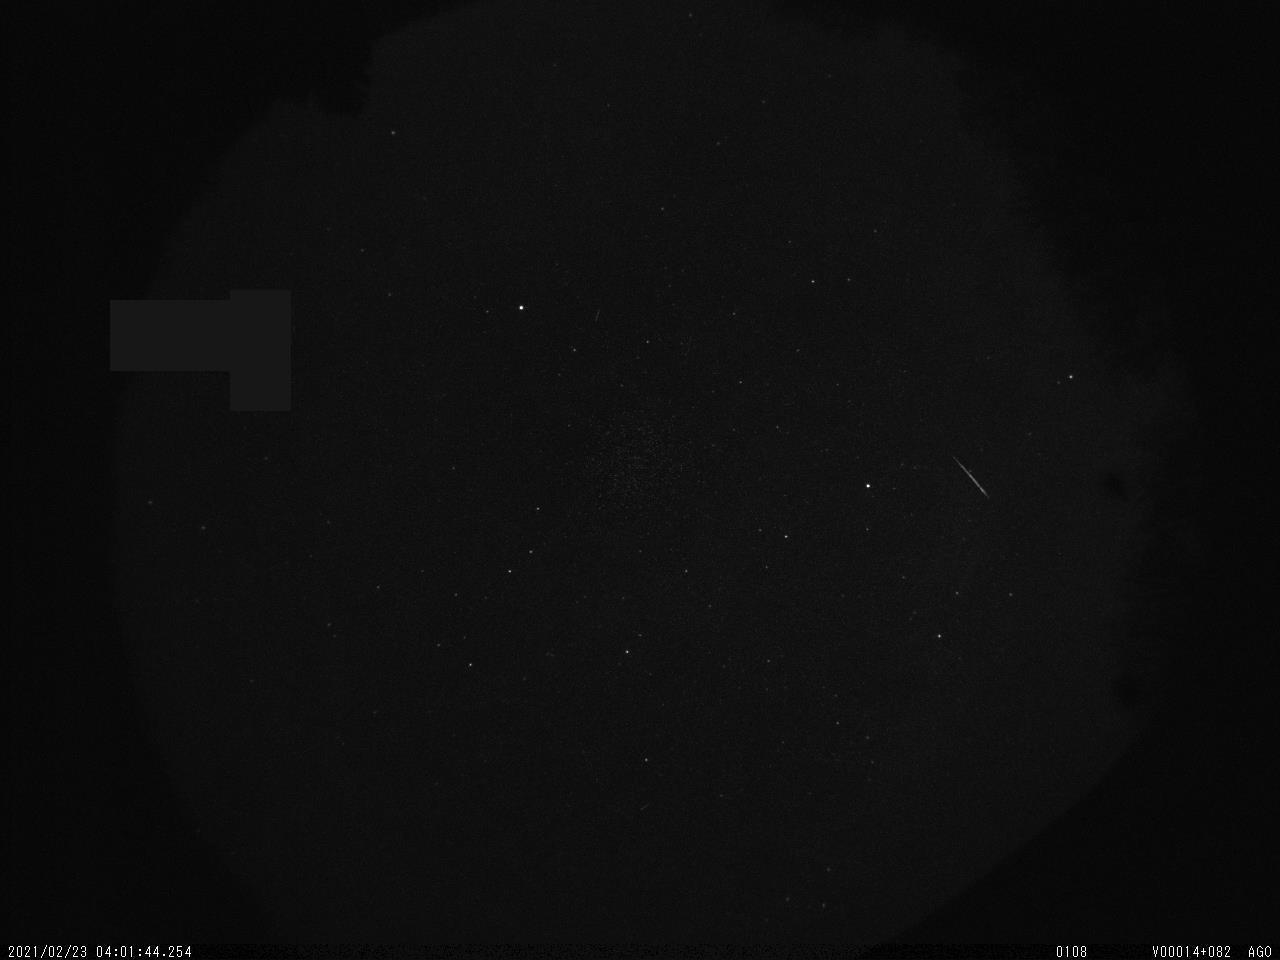meteor: (949, 455, 992, 501)
